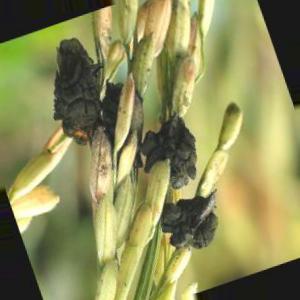Leaf_Scald: (57, 39, 104, 136), (149, 110, 199, 178), (173, 197, 212, 249)
